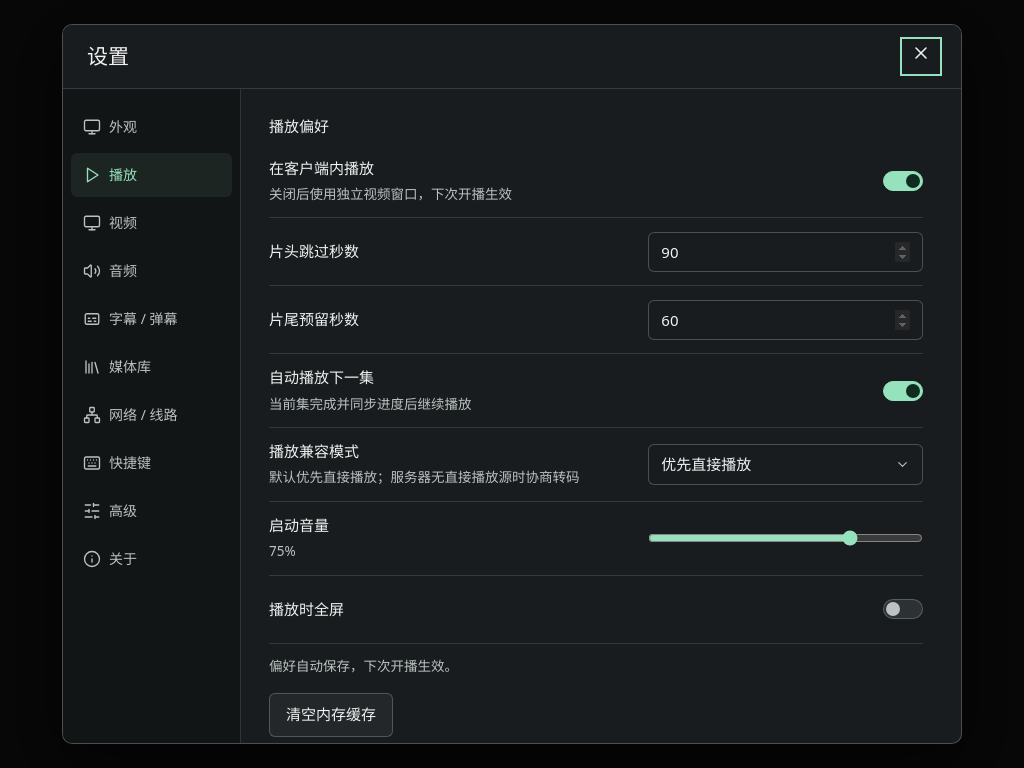
uses direct playback wording and exposes independent appearance controls
The image size is (1024, 768).
What coordinates should you click on to do the following:
click the dropdown named "播放兼容模式"
I would click on:
 (706, 464)
Its box is x1=648 y1=444 x2=923 y2=485.
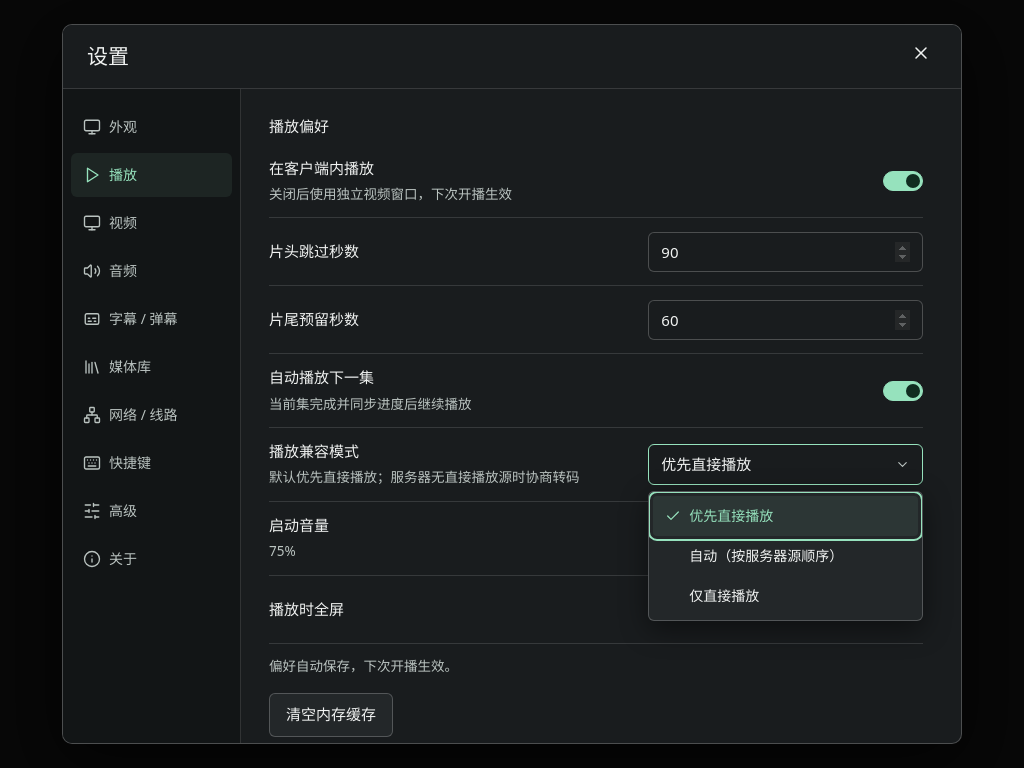
What coordinates should you click on to do the following:
click the option "仅直接播放"
I would click on:
 (724, 596)
Its box is x1=653 y1=576 x2=918 y2=616.
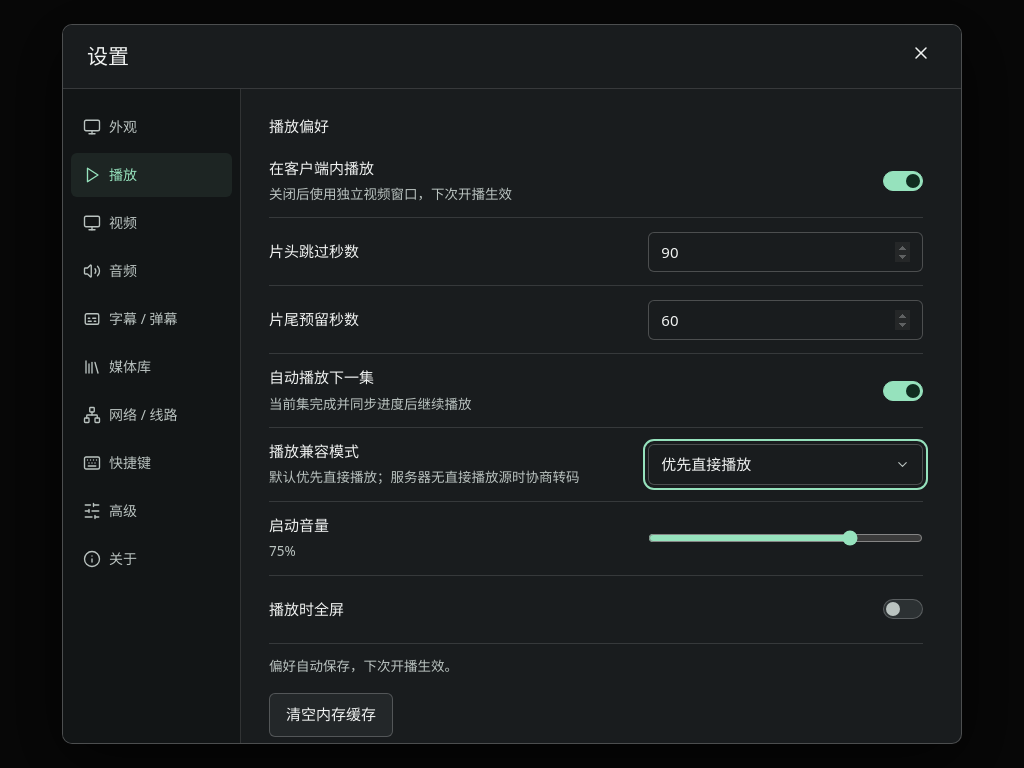
What coordinates should you click on to do the following:
click the tab "外观"
I would click on:
 (152, 127)
Its box is x1=71 y1=105 x2=232 y2=149.
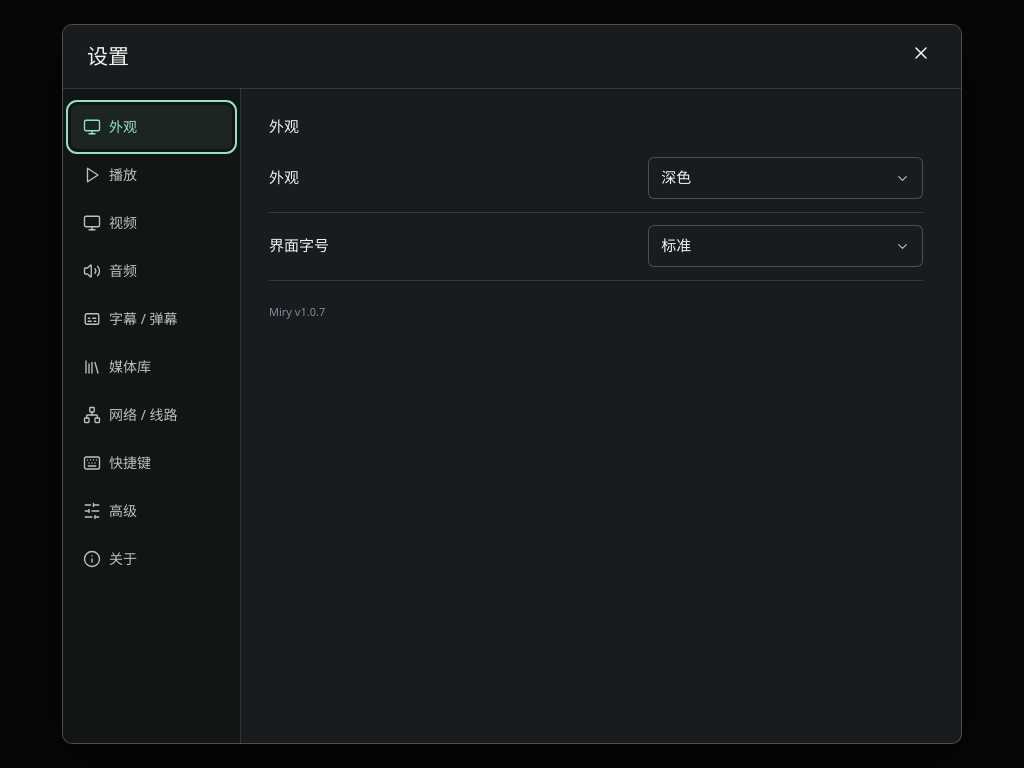
Now the dropdown named "界面字号" is shown, box x1=648 y1=225 x2=923 y2=267
